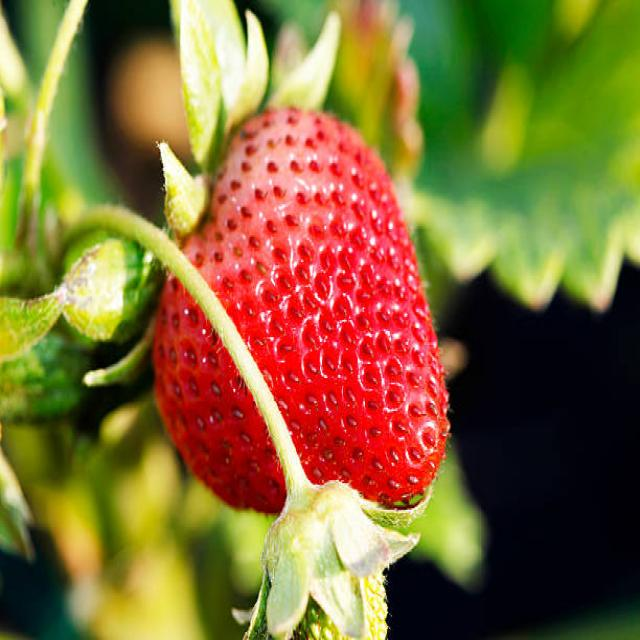Healthy Fruit: (152, 105, 449, 512)
